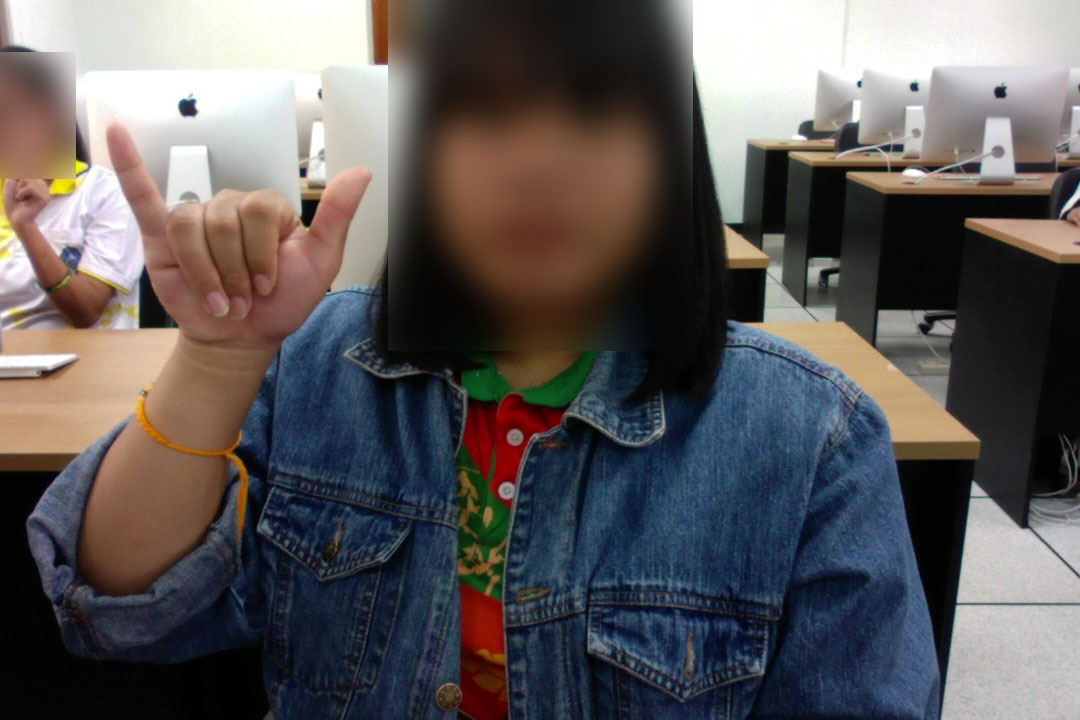yor: (98, 113, 380, 365)
